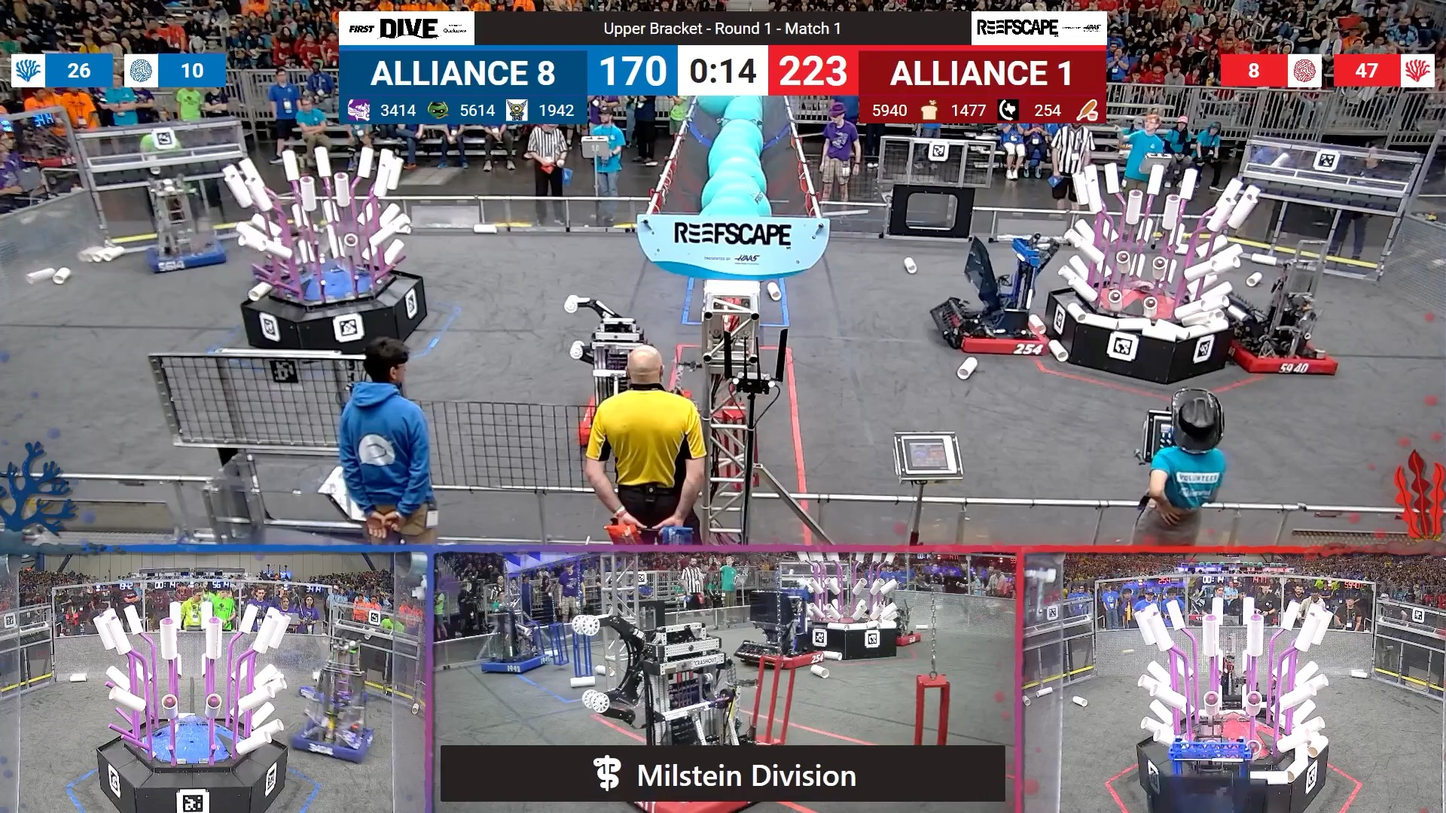bumpers: (1220, 325, 1349, 384), (577, 390, 695, 450), (936, 307, 1059, 364), (286, 716, 384, 766), (140, 241, 234, 279), (747, 644, 829, 672), (475, 653, 551, 679), (292, 686, 370, 711), (885, 627, 920, 647)
